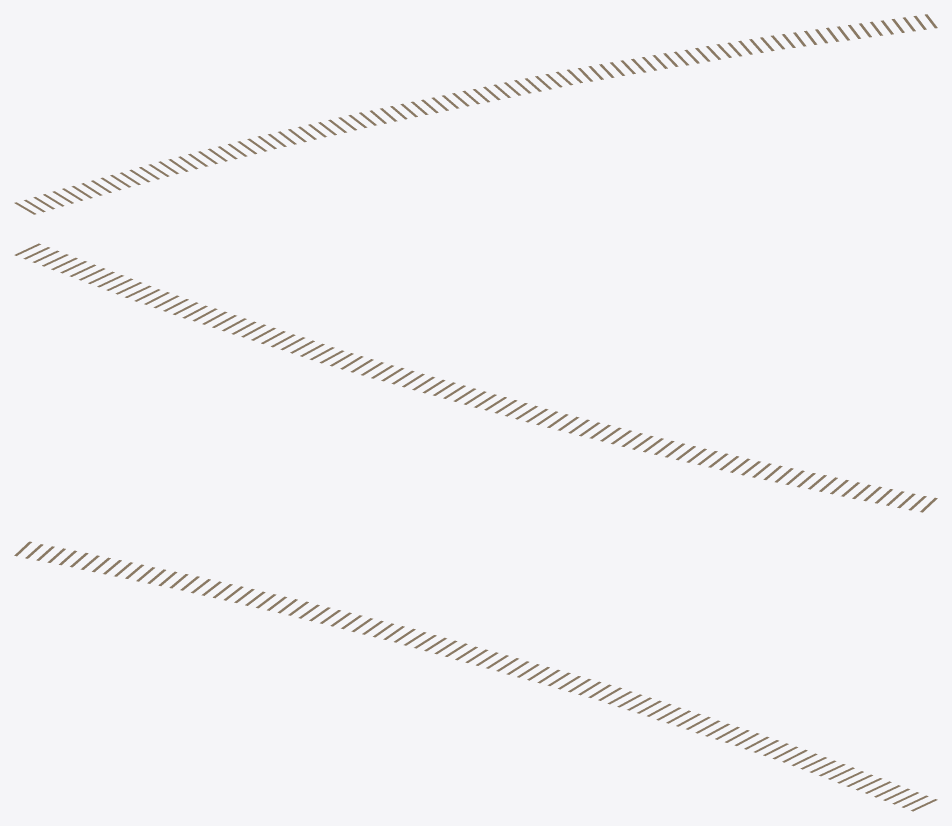
File: c_1621_17823_rail_sleeper.glb
The picture shows the model from 3 angles, top to bottom: view 1: azimuth 30°, elevation 25°; view 2: azimuth 150°, elevation 25°; view 3: azimuth 330°, elevation 25°; orthographic projection. The views are drawn at different scales.
Parts seen in each view (by area): view 1: geometry_0; view 2: geometry_0; view 3: geometry_0.
Part boxes in pixels (x1,y1,x2,y2): geometry_0: (14, 14, 937, 214); geometry_0: (14, 243, 937, 512); geometry_0: (14, 541, 937, 811).
Size of the model in its own units: 70.52 by 0.0475 by 8.13.
